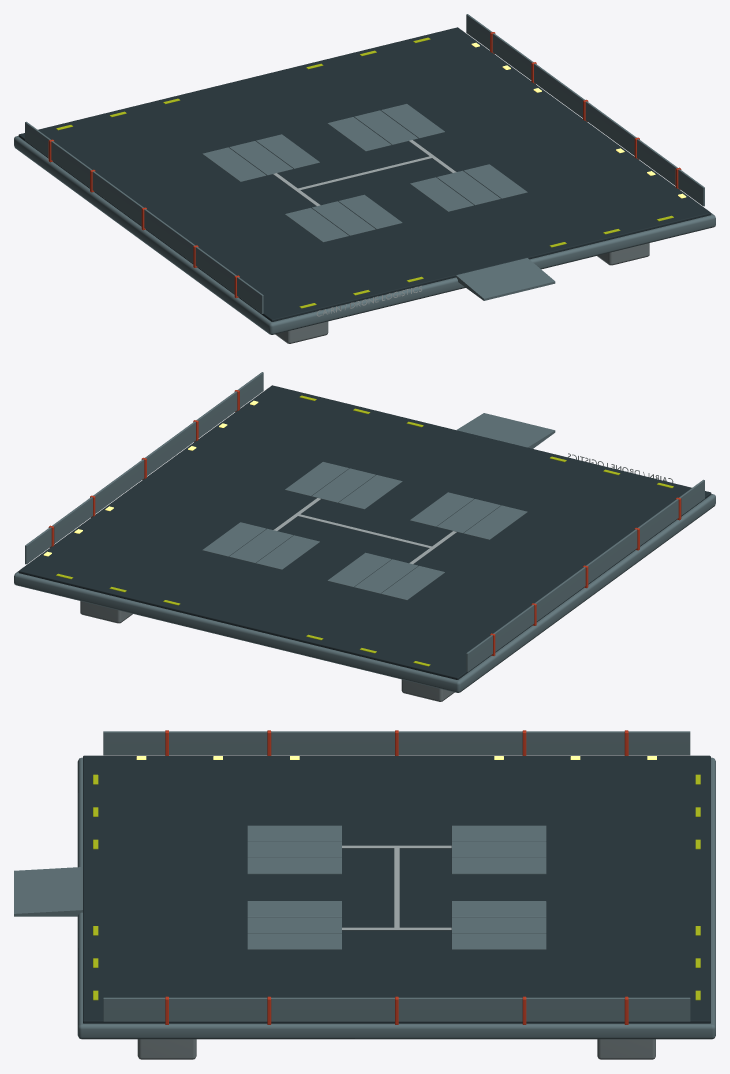
Rendered from frontier_pad.glb.
3 renders of one model, top to bottom at view 1: azimuth 30°, elevation 25°; view 2: azimuth 150°, elevation 25°; view 3: azimuth 270°, elevation 25°, orthographic. The views are drawn at different scales.
Visible parts, largest first — view 1: frontier_pad; view 2: frontier_pad; view 3: frontier_pad.
Part boxes in pixels (left/top/right/bottom): frontier_pad: left=14, top=14, right=715, bottom=343; frontier_pad: left=14, top=372, right=715, bottom=701; frontier_pad: left=14, top=730, right=715, bottom=1059.
Size of the model in its own units: 25 by 3.77 by 27.5.
